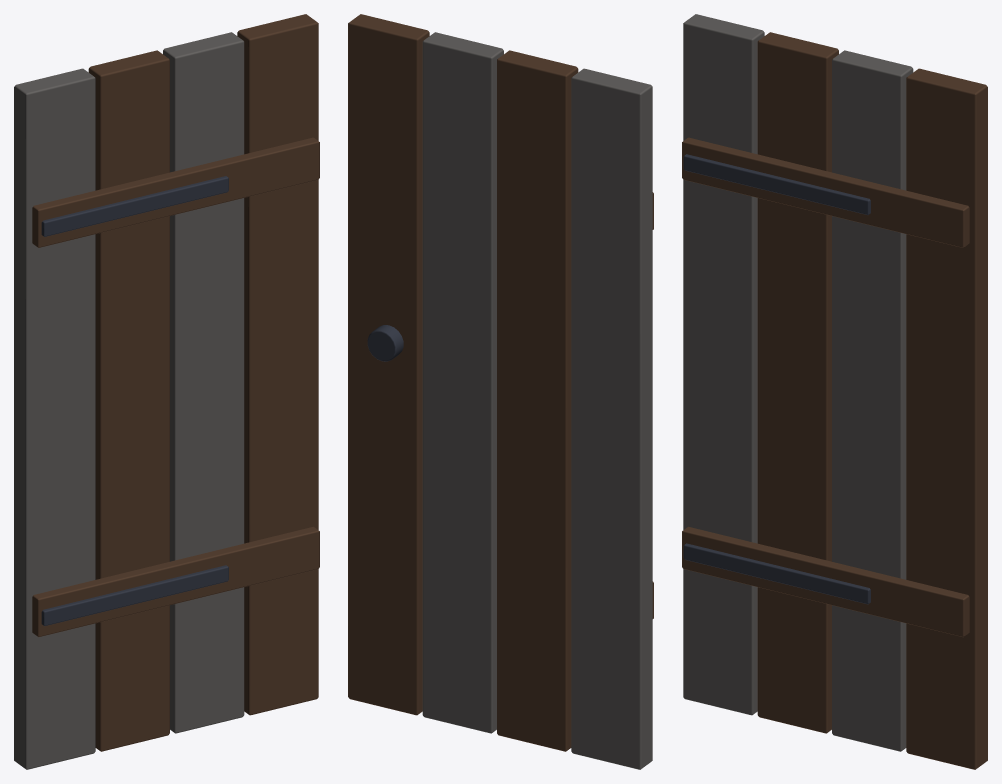
Rendered from stone-halls-door-leaf.ad34d4c2.glb.
3 renders of one model, left to right at view 1: azimuth 30°, elevation 25°; view 2: azimuth 150°, elevation 25°; view 3: azimuth 330°, elevation 25°, orthographic.
Visible parts, largest first — view 1: body; view 2: body; view 3: body.
Part boxes in pixels (x1,y1,x2,y2): body: (14, 14, 319, 769); body: (348, 14, 653, 769); body: (682, 14, 987, 769).
Size of the model in its own units: 0.79 by 1.74 by 0.14.
